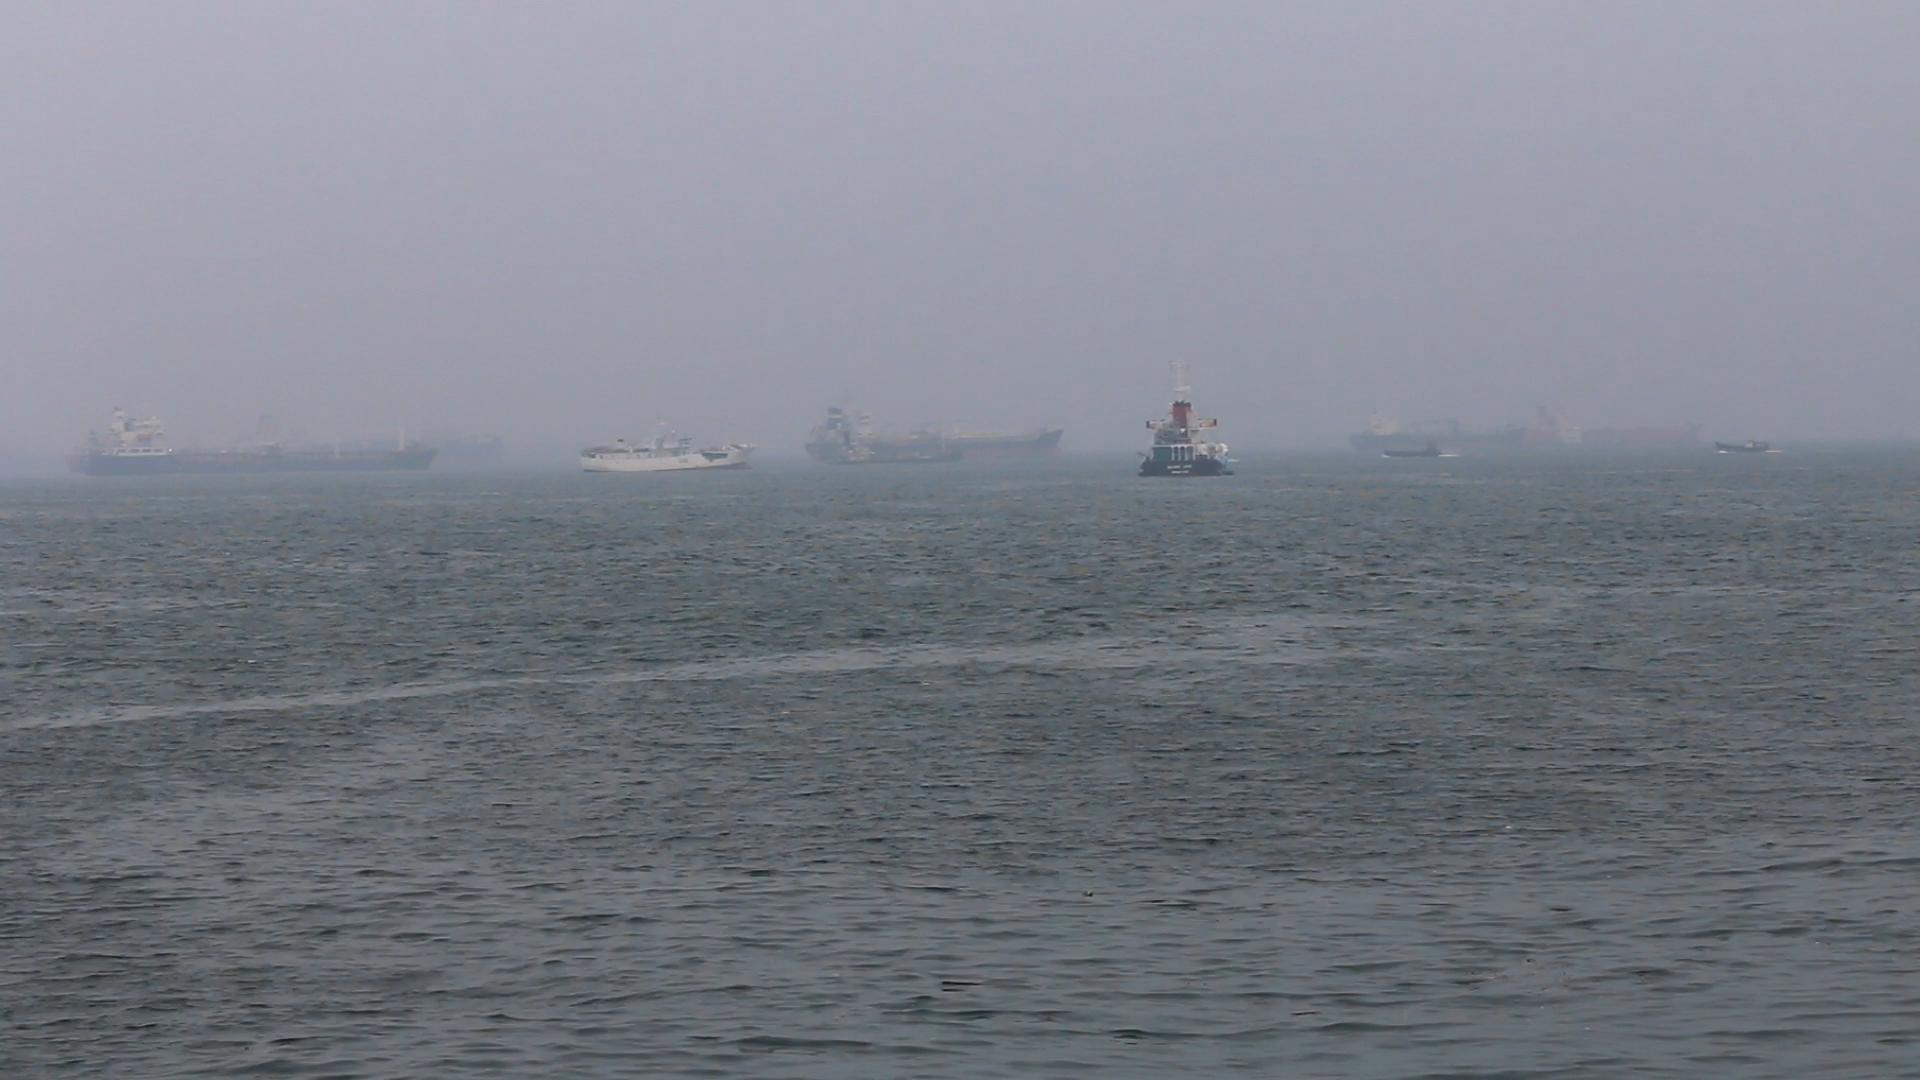Container Ship: (76, 402, 439, 471), (803, 407, 1064, 468), (1146, 360, 1236, 481), (579, 429, 764, 475), (1344, 415, 1551, 446)
